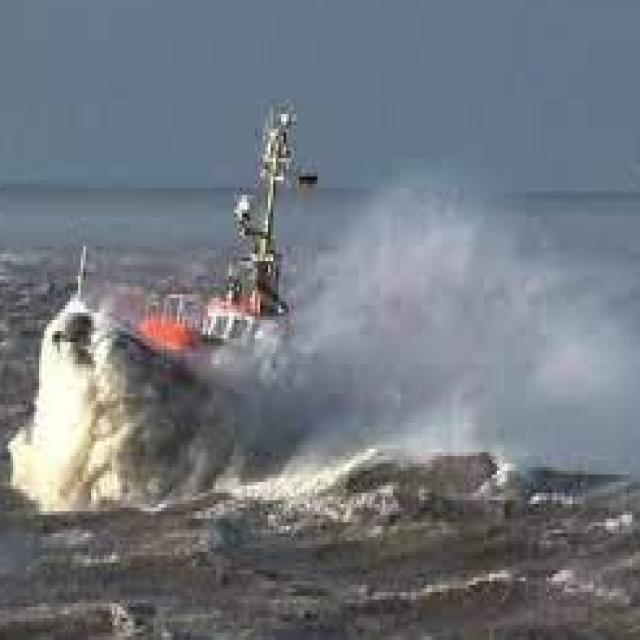houseboat: (60, 99, 331, 416)
